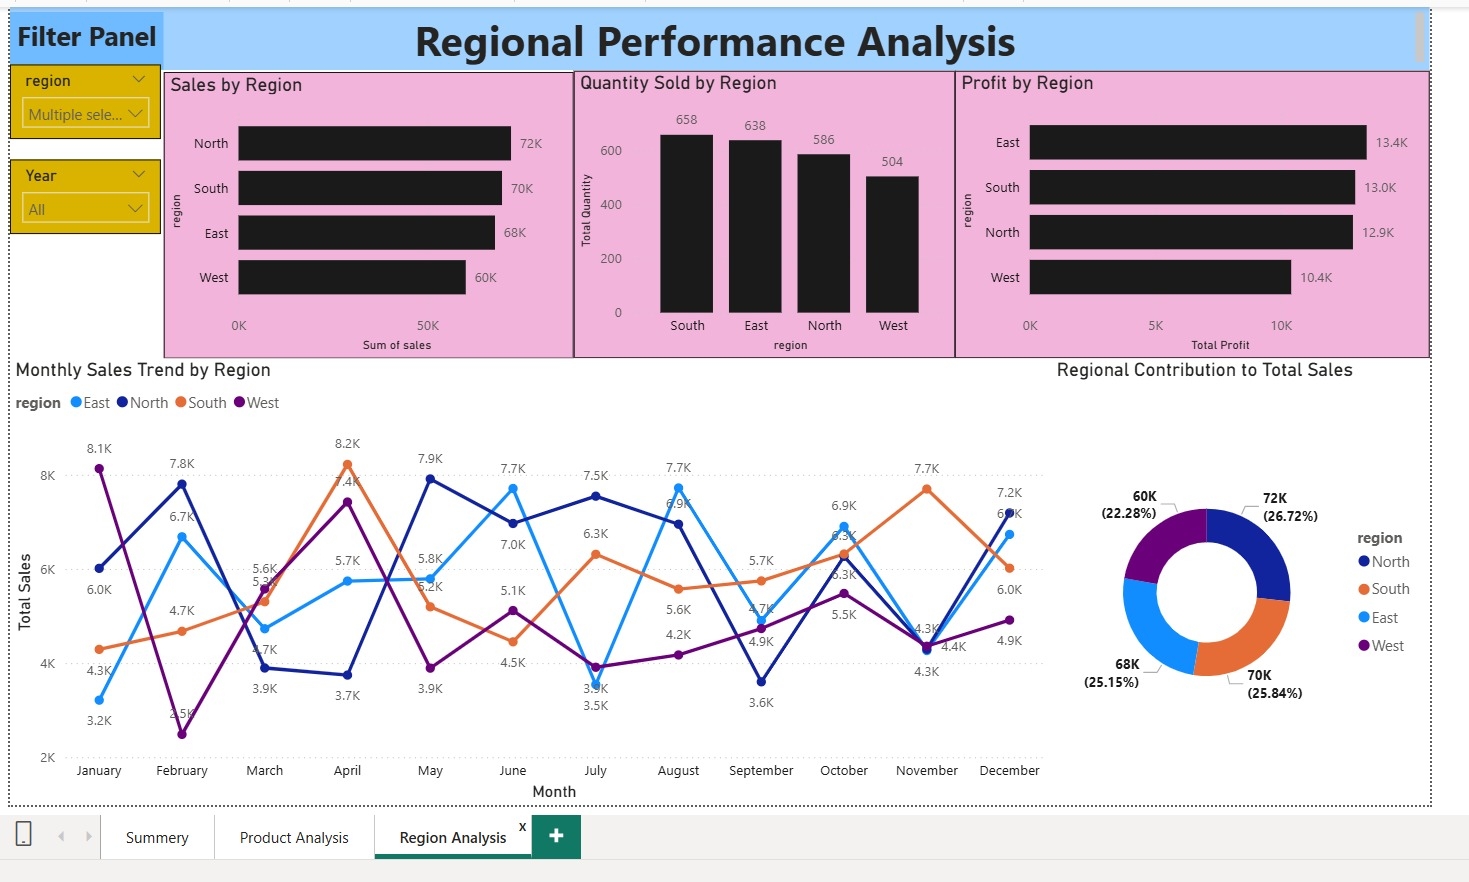

The dashboard page shown, as its layout file describes it:
{"tool":"powerbi","page":{"name":"Region Analysis","canvas":[1280,720],"ordinal":2},"visuals":[{"type":"textbox","box":[0,0,1280.2,57],"z":0},{"type":"clusteredBarChart","title":"Sales by Region","fields":{"Category":["cleaned_sales_data.region"],"Y":["Sum(cleaned_sales_data.sales)"]},"box":[138.4,58.1,369.8,258.1],"z":1},{"type":"textbox","box":[0,4.7,138.4,52.3],"z":2},{"type":"slicer","fields":{"Values":["cleaned_sales_data.region"]},"box":[0,52.3,136,67.4],"z":3},{"type":"slicer","fields":{"Values":["cleaned_sales_data.order_date.Variation.Date Hierarchy.Year"]},"box":[0,137.2,136,67.4],"z":4},{"type":"clusteredBarChart","title":"Profit by Region","fields":{"Category":["cleaned_sales_data.region"],"Y":["cleaned_sales_data.Total Profit"]},"box":[852.3,57,427.9,259.3],"z":5},{"type":"columnChart","title":"Quantity Sold by Region","fields":{"Category":["cleaned_sales_data.region"],"Y":["cleaned_sales_data.Total Quantity"]},"box":[508.1,57,344.2,259.3],"z":6},{"type":"lineChart","title":"Monthly Sales Trend by Region","fields":{"Category":["cleaned_sales_data.order_date.Variation.Date Hierarchy.Month"],"Y":["cleaned_sales_data.Total Sales"],"Series":["cleaned_sales_data.region"]},"box":[0,316.3,938.4,403.5],"z":7},{"type":"donutChart","title":"Regional Contribution to Total Sales","fields":{"Category":["cleaned_sales_data.region"],"Y":["cleaned_sales_data.Total Sales"]},"box":[938.4,316.3,341.9,403.5],"z":8}]}

Visuals, with their boxes on the page's 1280x720 design canvas (x1, y1, x2, y2). These are canvas units, not pixel positions in the 1469x882 screenshot, which may show the page scaled, cropped or inside an application window:
textbox: [left=0, top=0, right=1280, bottom=57]
"Sales by Region" clusteredBarChart: [left=138, top=58, right=508, bottom=316]
textbox: [left=0, top=5, right=138, bottom=57]
slicer - cleaned_sales_data.region: [left=0, top=52, right=136, bottom=120]
slicer - cleaned_sales_data.order_date.Variation.Date Hierarchy.Year: [left=0, top=137, right=136, bottom=205]
"Profit by Region" clusteredBarChart: [left=852, top=57, right=1280, bottom=316]
"Quantity Sold by Region" columnChart: [left=508, top=57, right=852, bottom=316]
"Monthly Sales Trend by Region" lineChart: [left=0, top=316, right=938, bottom=720]
"Regional Contribution to Total Sales" donutChart: [left=938, top=316, right=1280, bottom=720]
